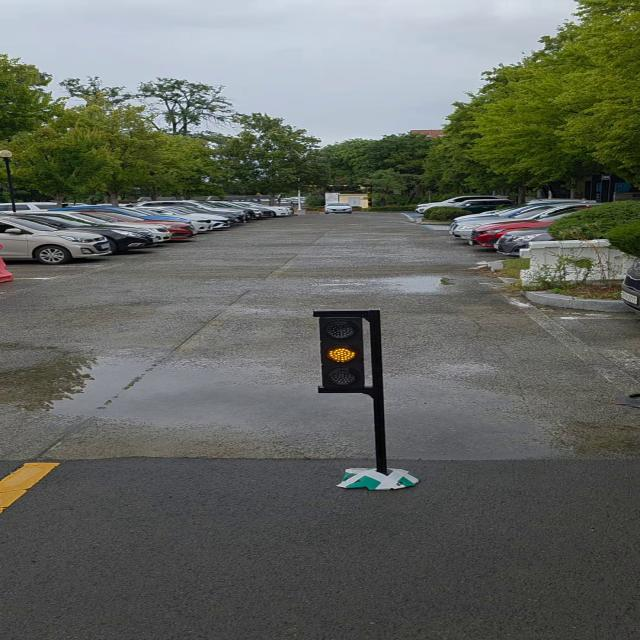yellow: (318, 314, 366, 395)
